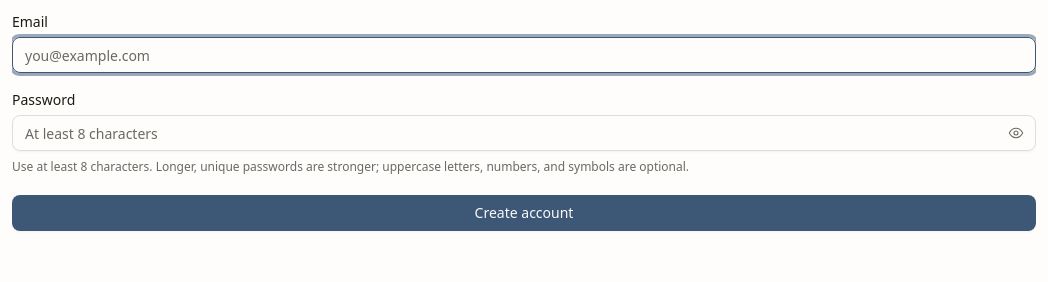
it: SignupForm › requests a code and advances to the verification step
Type "kartik@example.com" into the field labelled "Email" at (524, 55), box [12,37,1036,73]
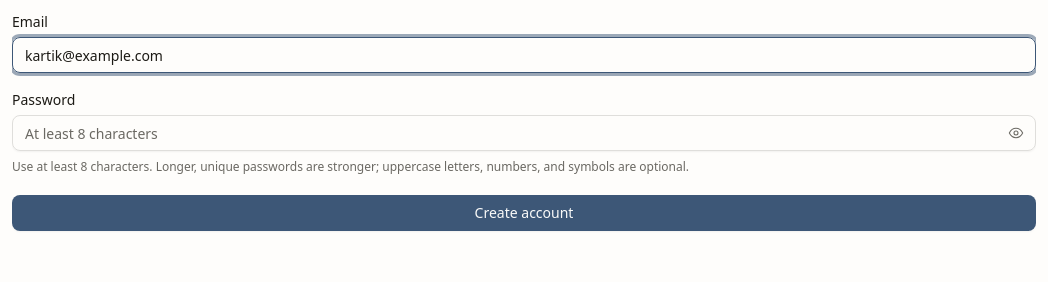
Type "correct horse battery staple" into the password field labelled "Password" at (524, 133), box [12,115,1036,151]
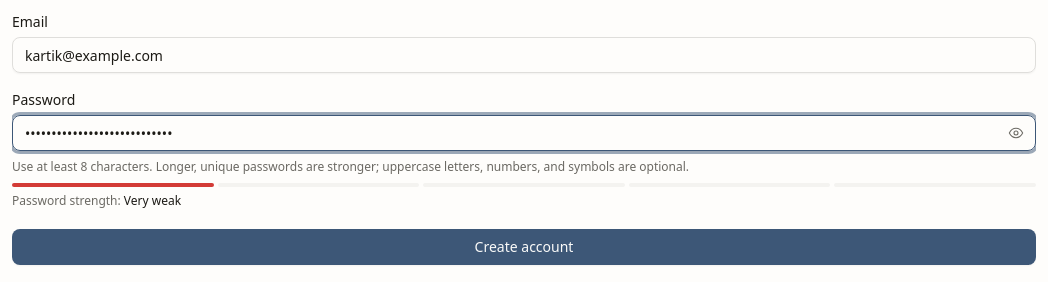
Click the button "Create account" at (524, 247), box [12,229,1036,265]
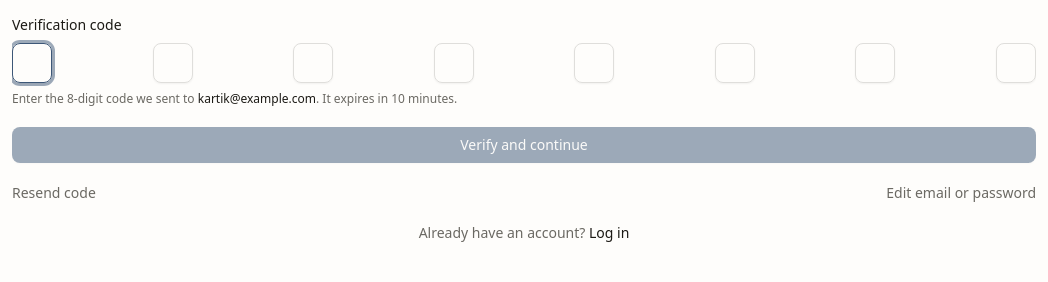
Result: the text "expires in 10 minutes" is shown at [316,90,457,107]
Result: the text "kartik@example.com" is shown at [198,90,316,107]
